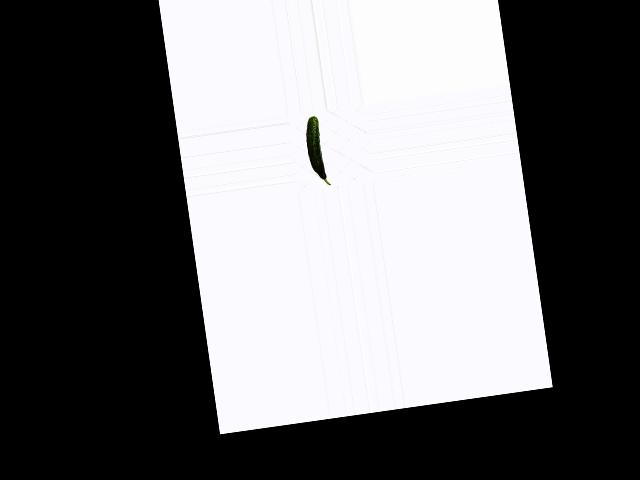cucumber: (303, 115, 330, 188)
